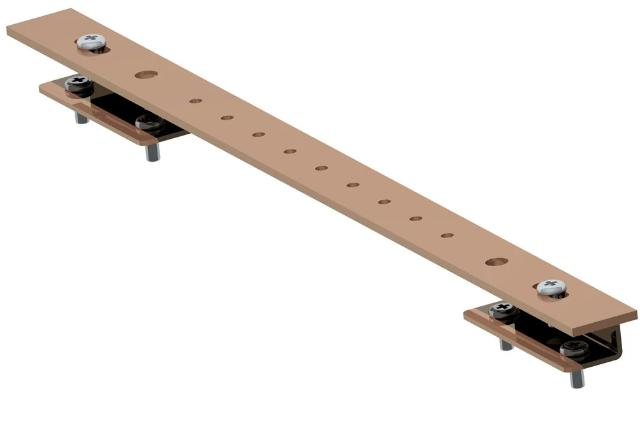busbar: (5, 6, 637, 389)
